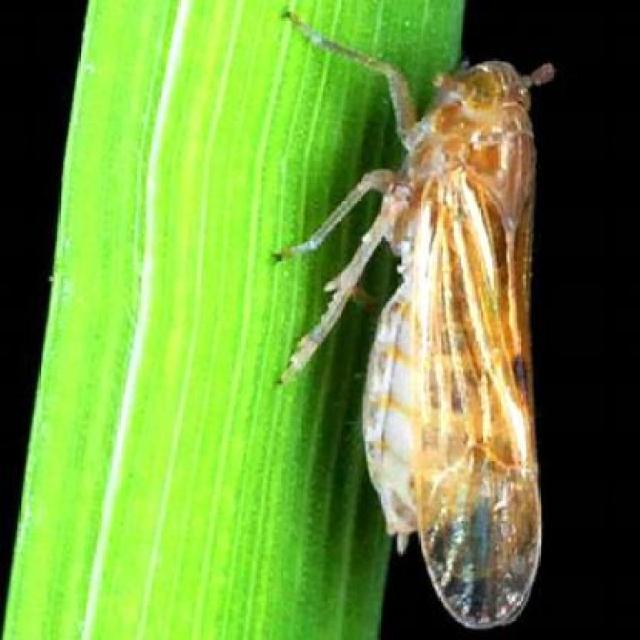brown-planthopper: (358, 45, 548, 610)
